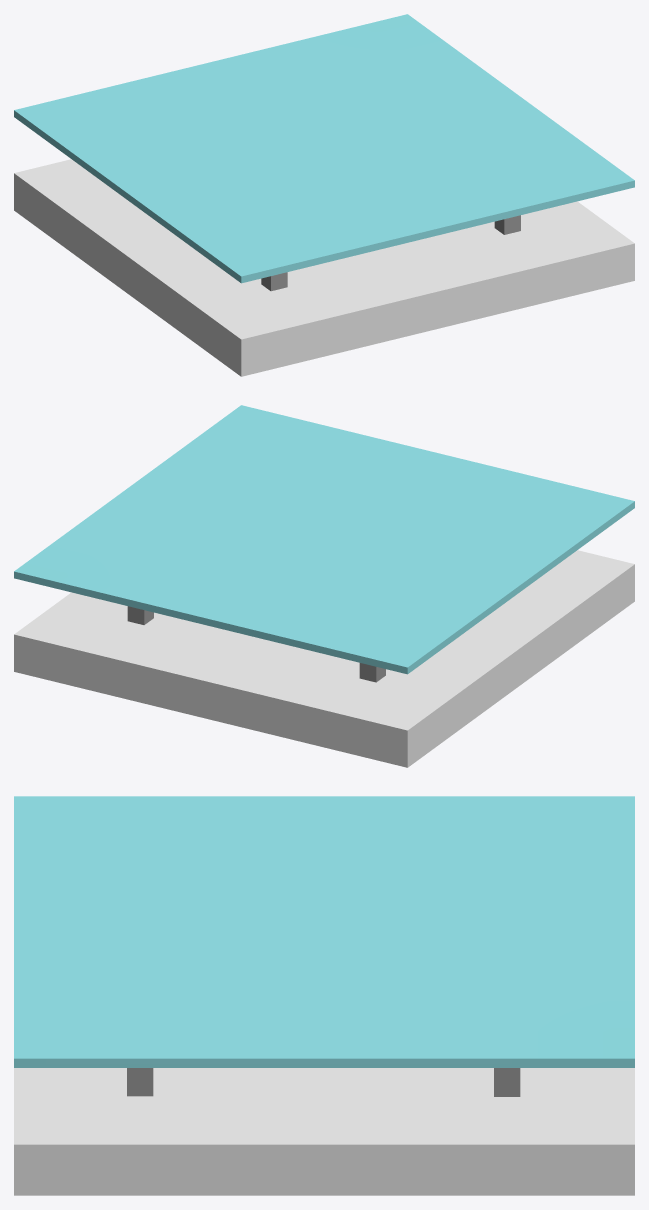
File: coffee_table_005.glb
3 views of the same model, one above another, from view 1: azimuth 30°, elevation 25°; view 2: azimuth 150°, elevation 25°; view 3: azimuth 270°, elevation 25° (orthographic). The views are drawn at different scales.
Visible parts, largest first — view 1: coffee_table_005; view 2: coffee_table_005; view 3: coffee_table_005.
Part boxes in pixels (x1=…): coffee_table_005: x1=14, y1=14, x2=634, y2=376; coffee_table_005: x1=14, y1=405, x2=634, y2=767; coffee_table_005: x1=14, y1=796, x2=634, y2=1195.
Size of the model in its own units: 0.9297 by 0.2829 by 0.9297.
Materials: 1 (1 with a texture image).
